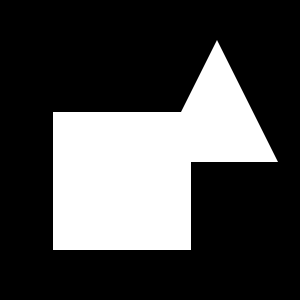circle: (53, 112, 191, 250)
triangle: (156, 40, 278, 162), (72, 189, 80, 197)
